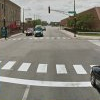crosswalk: (1, 60, 89, 74), (13, 36, 71, 40)
